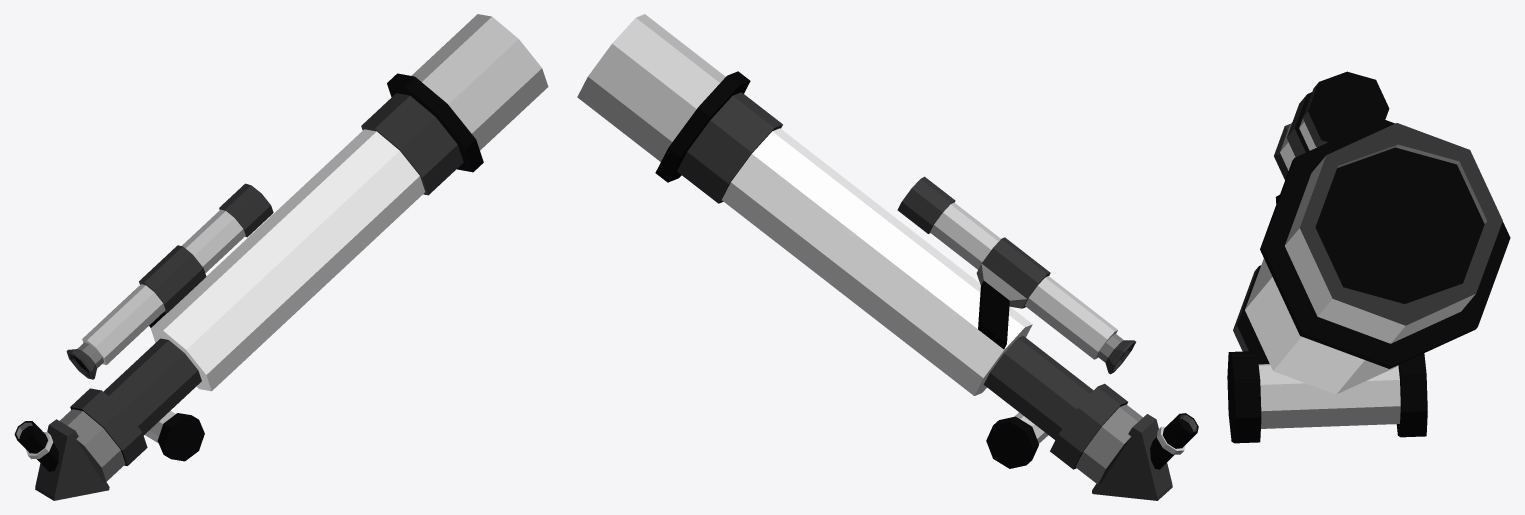
The model's file is Telescopio.gltf.
3 renders of one model, left to right at view 1: azimuth 30°, elevation 25°; view 2: azimuth 150°, elevation 25°; view 3: azimuth 270°, elevation 25°, orthographic. The views are drawn at different scales.
Parts seen in each view (by area): view 1: Telescopio; view 2: Telescopio; view 3: Telescopio.
Boxes of the visible parts, left/top/right/bottom form: Telescopio: left=14, top=14, right=548, bottom=500; Telescopio: left=577, top=14, right=1198, bottom=500; Telescopio: left=1227, top=71, right=1510, bottom=443.
Size of the model in its own units: 1.64 by 1.02 by 0.3697.
1 material, 1 textured.
